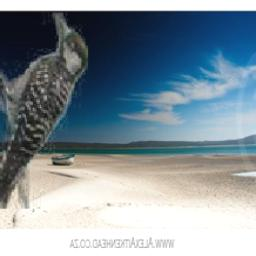Woodpecker: (0, 7, 87, 209)
